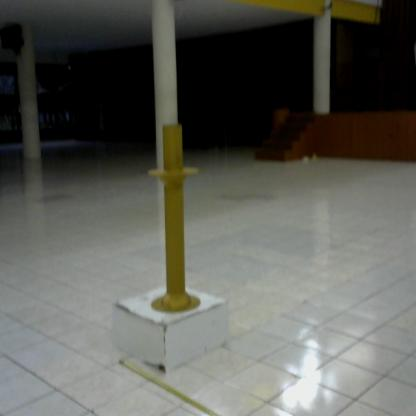pole: (142, 116, 211, 322)
